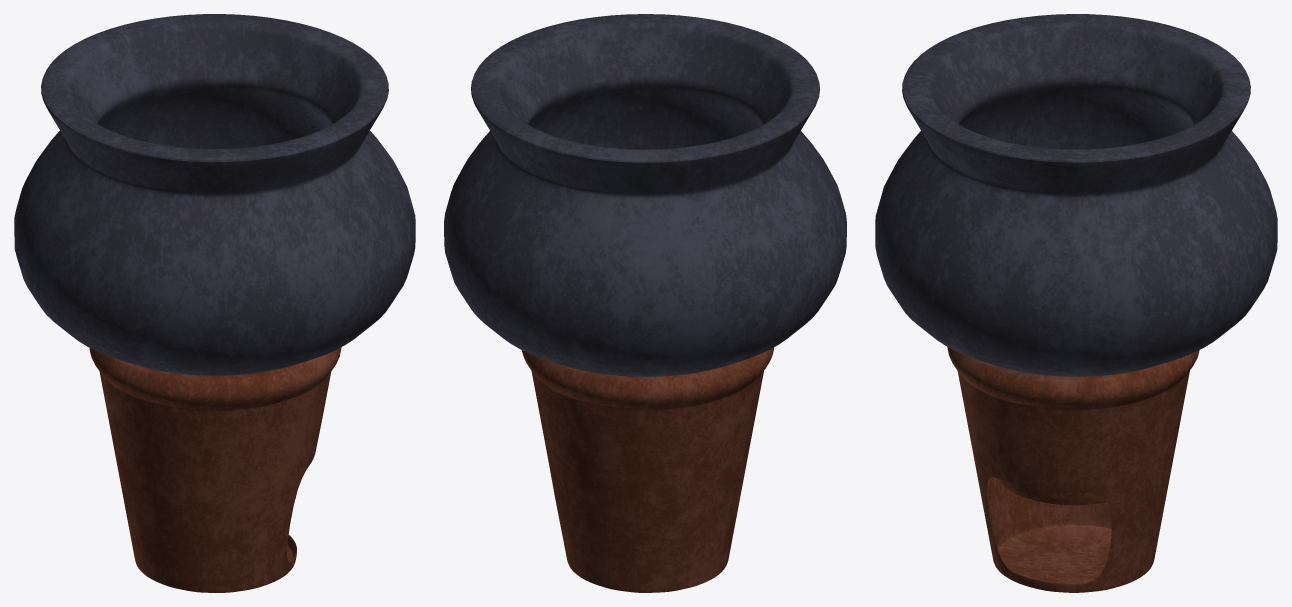
File: Palayok1.fbx
3 renders of one model, left to right at view 1: azimuth 30°, elevation 25°; view 2: azimuth 150°, elevation 25°; view 3: azimuth 270°, elevation 25°, orthographic.
Visible parts, largest first — view 1: Palayok.001; view 2: Palayok.001; view 3: Palayok.001.
Part boxes in pixels (box(x1,y1,x2,y2)): Palayok.001: box(14, 14, 415, 592); Palayok.001: box(444, 14, 846, 592); Palayok.001: box(875, 14, 1277, 592).
Bounding box in the file's own units: 47.44 × 62 × 47.44.
Materials: 1 (1 with a texture image).
